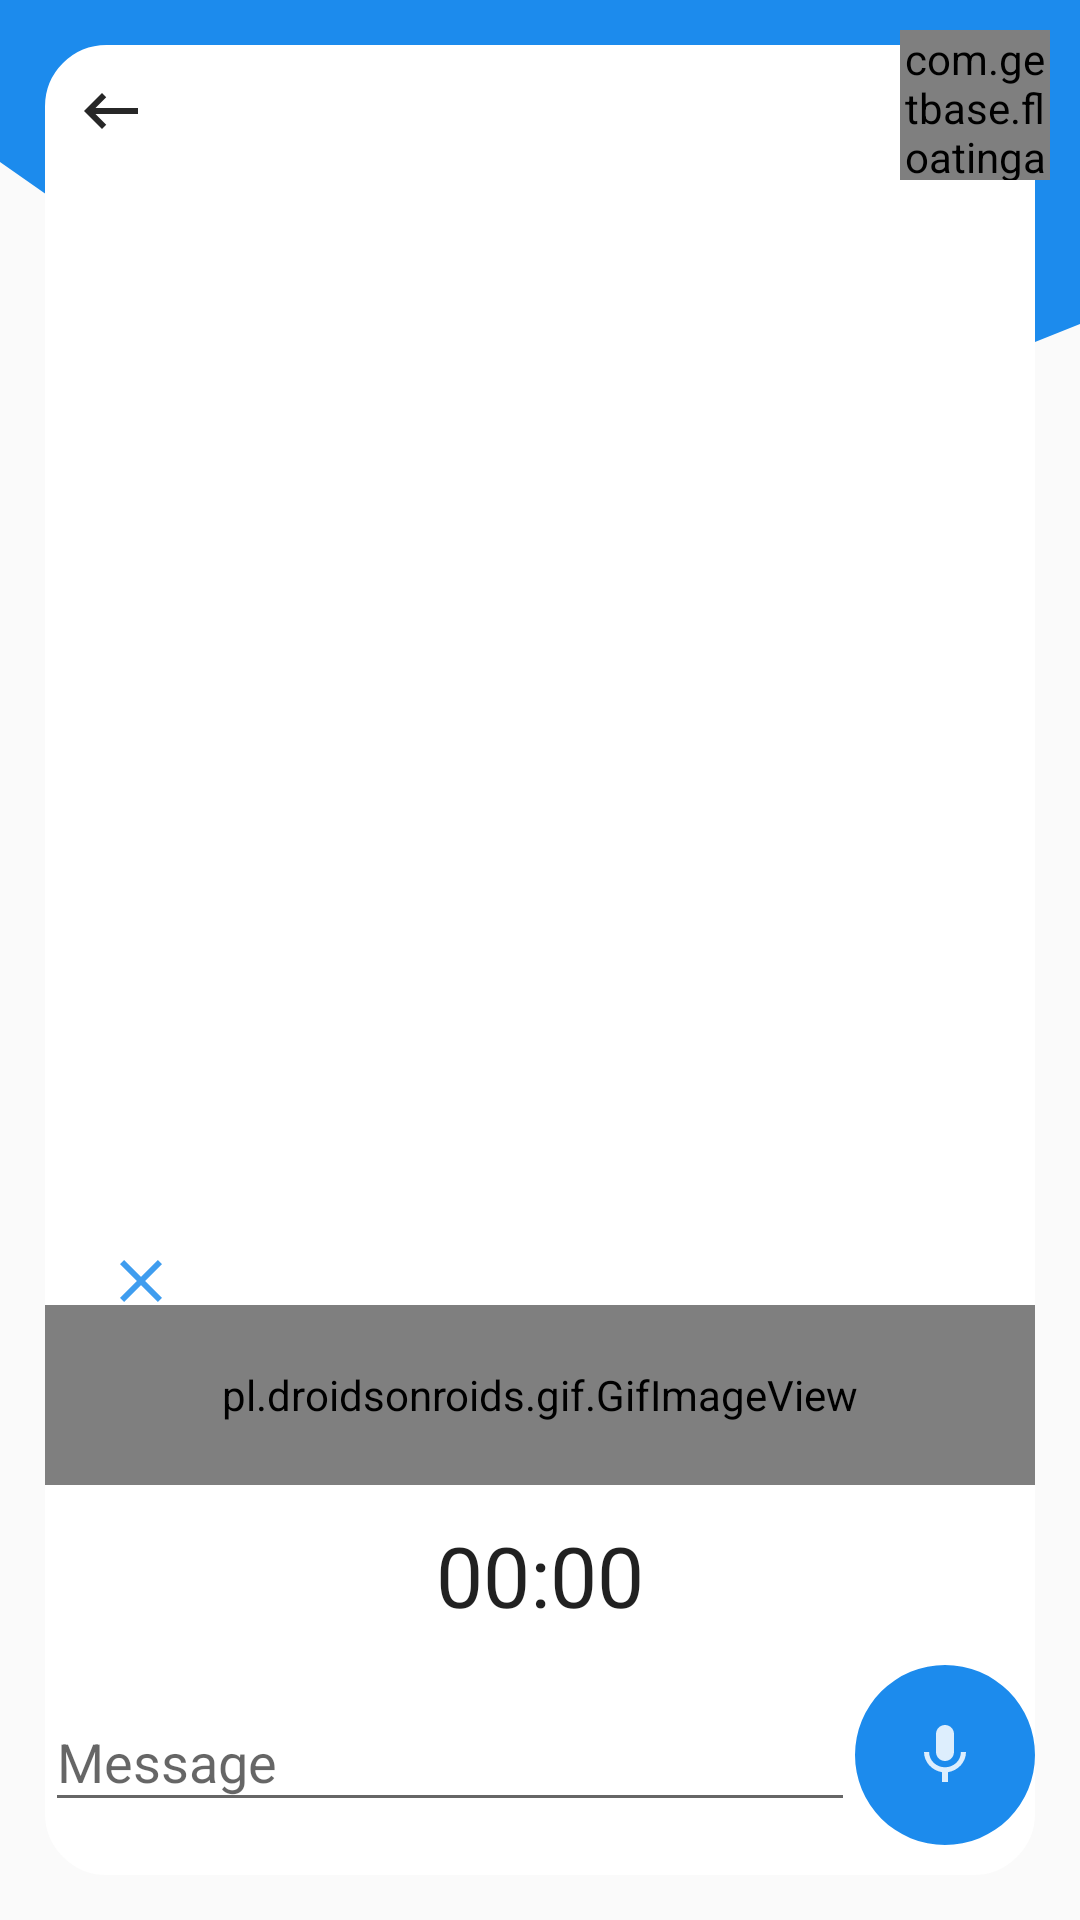

Where to tap for icons on this 1080 x 1920 app screen, as point (x, y):
BACK: point (111, 111)
mic: point (945, 1755)
